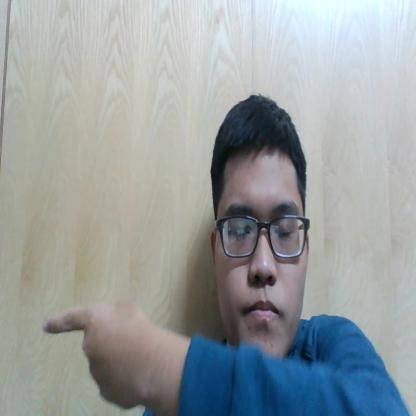right: (31, 296, 165, 408)
